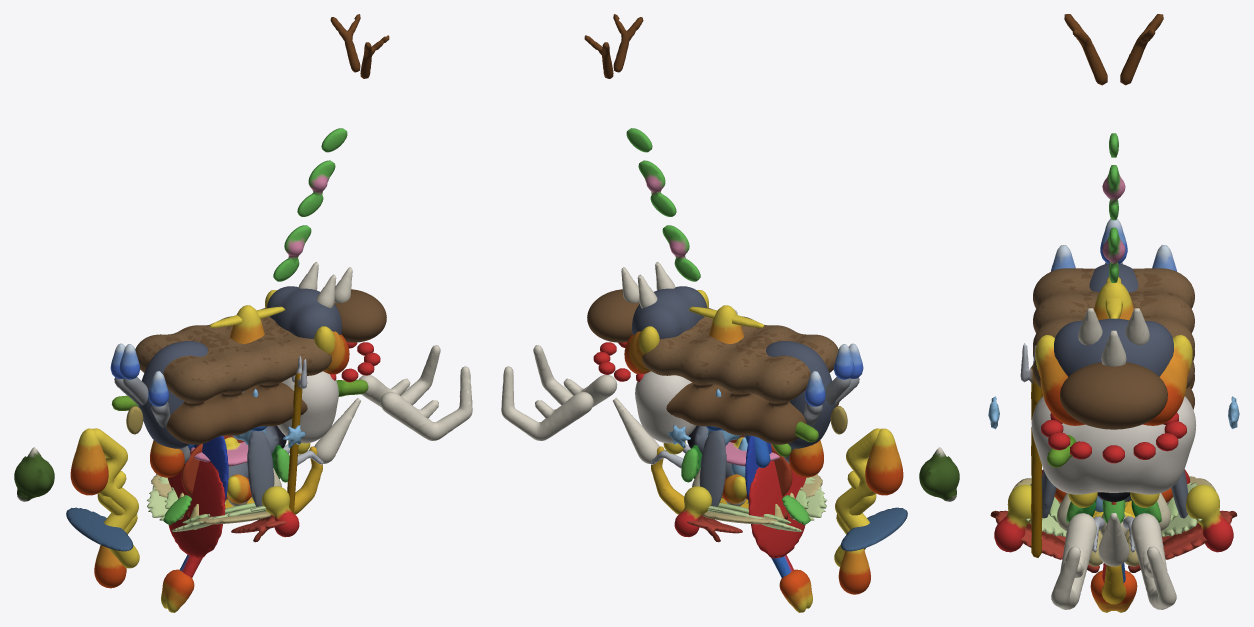
Rendered from evo.glb.
3 renders of one model, left to right at view 1: azimuth 30°, elevation 25°; view 2: azimuth 150°, elevation 25°; view 3: azimuth 270°, elevation 25°, orthographic. The views are drawn at different scales.
Parts seen in each view (by area): view 1: elephant1:body, elephant2:body, elephant2:head, dora2:body_c, penguin2:wingR, dog2:head, dog2:neck, mouse2:tail, dog2:tail, tiger2:tail_f, trex2:tail, dolphin2:tail (+22 smaller); view 2: elephant1:body, elephant2:body, elephant2:head, dora2:body_c, dog2:neck, dog2:head, mouse2:tail, dog2:tail, tiger2:tail_f, trex2:tail, dolphin2:tail, penguin2:wingL (+19 smaller); view 3: elephant2:head, dog2:neck, elephant1:body, dog2:head, tiger2:head_f, panda2:head, penguin2:wingR, elephant2:body, lizard2:body, sponge2:armL, trex2:head, giraffe2:head (+19 smaller).
Boxes of the visible parts, x1,y1,x2,y2 form: elephant1:body: [135, 307, 331, 402]; elephant2:body: [136, 317, 330, 444]; elephant2:head: [334, 289, 472, 440]; dora2:body_c: [167, 450, 225, 558]; penguin2:wingR: [247, 356, 307, 513]; dog2:head: [267, 286, 341, 339]; dog2:neck: [277, 371, 338, 443]; mouse2:tail: [93, 428, 139, 568]; dog2:tail: [138, 341, 207, 448]; tiger2:tail_f: [70, 428, 108, 495]; trex2:tail: [14, 408, 138, 501]; dolphin2:tail: [66, 507, 133, 551]; elephant1:body: [642, 307, 838, 402]; elephant2:body: [643, 318, 839, 444]; elephant2:head: [501, 289, 639, 440]; dora2:body_c: [748, 460, 806, 558]; dog2:neck: [635, 371, 696, 443]; dog2:head: [632, 286, 706, 339]; mouse2:tail: [834, 428, 880, 566]; dog2:tail: [766, 341, 835, 448]; tiger2:tail_f: [865, 428, 903, 495]; trex2:tail: [833, 409, 959, 501]; dolphin2:tail: [840, 507, 907, 551]; penguin2:wingL: [699, 430, 726, 506]; elephant2:head: [1051, 362, 1176, 609]; dog2:neck: [1031, 396, 1196, 494]; elephant1:body: [1033, 268, 1194, 388]; dog2:head: [1054, 318, 1174, 376]; tiger2:head_f: [1035, 335, 1192, 425]; panda2:head: [1041, 413, 1186, 463]; penguin2:wingR: [1020, 343, 1056, 557]; elephant2:body: [1033, 268, 1194, 409]; lizard2:body: [990, 510, 1237, 572]; sponge2:armL: [1186, 484, 1233, 552]; trex2:head: [1078, 308, 1149, 366]; giraffe2:head: [1064, 14, 1163, 85].
Size of the model in its own units: 1.75 by 2.04 by 0.6504.
